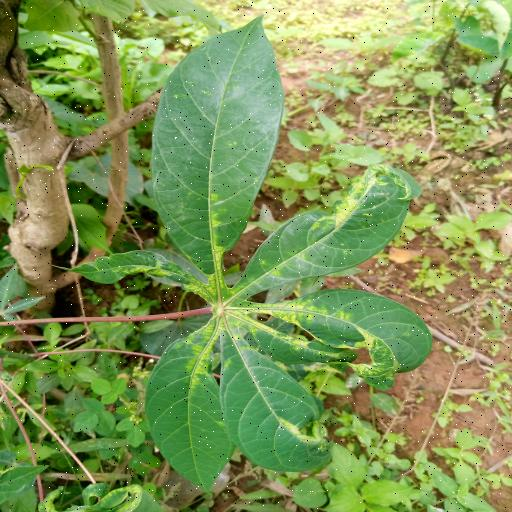Cassava_Mosaic: (66, 15, 435, 494)
